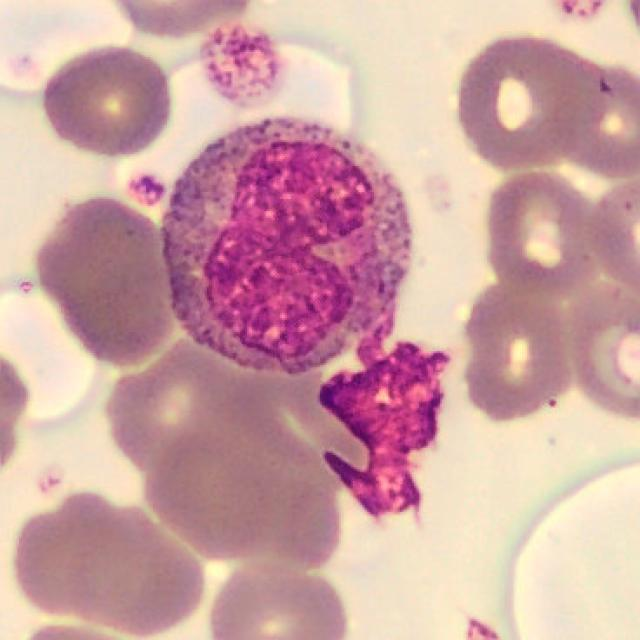Metamielocito: (163, 116, 413, 379)
